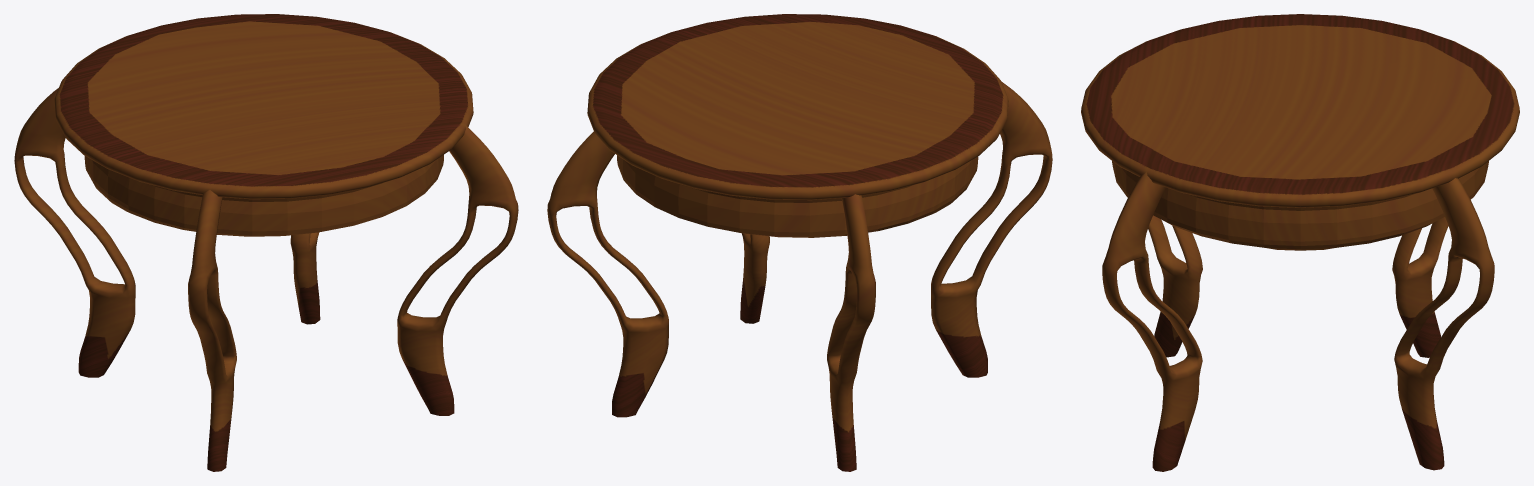
The model's file is MesaMadeira.fbx.
3 views of the same model, side by side, from view 1: azimuth 30°, elevation 25°; view 2: azimuth 150°, elevation 25°; view 3: azimuth 270°, elevation 25° (orthographic). The views are drawn at different scales.
Parts seen in each view (by area): view 1: MesaMadeira; view 2: MesaMadeira; view 3: MesaMadeira.
Part boxes in pixels (<box>): MesaMadeira: <box>14,14,518,471</box>; MesaMadeira: <box>547,14,1052,471</box>; MesaMadeira: <box>1081,14,1519,471</box>.
Bounding box in the file's own units: 386 × 298 × 386.
